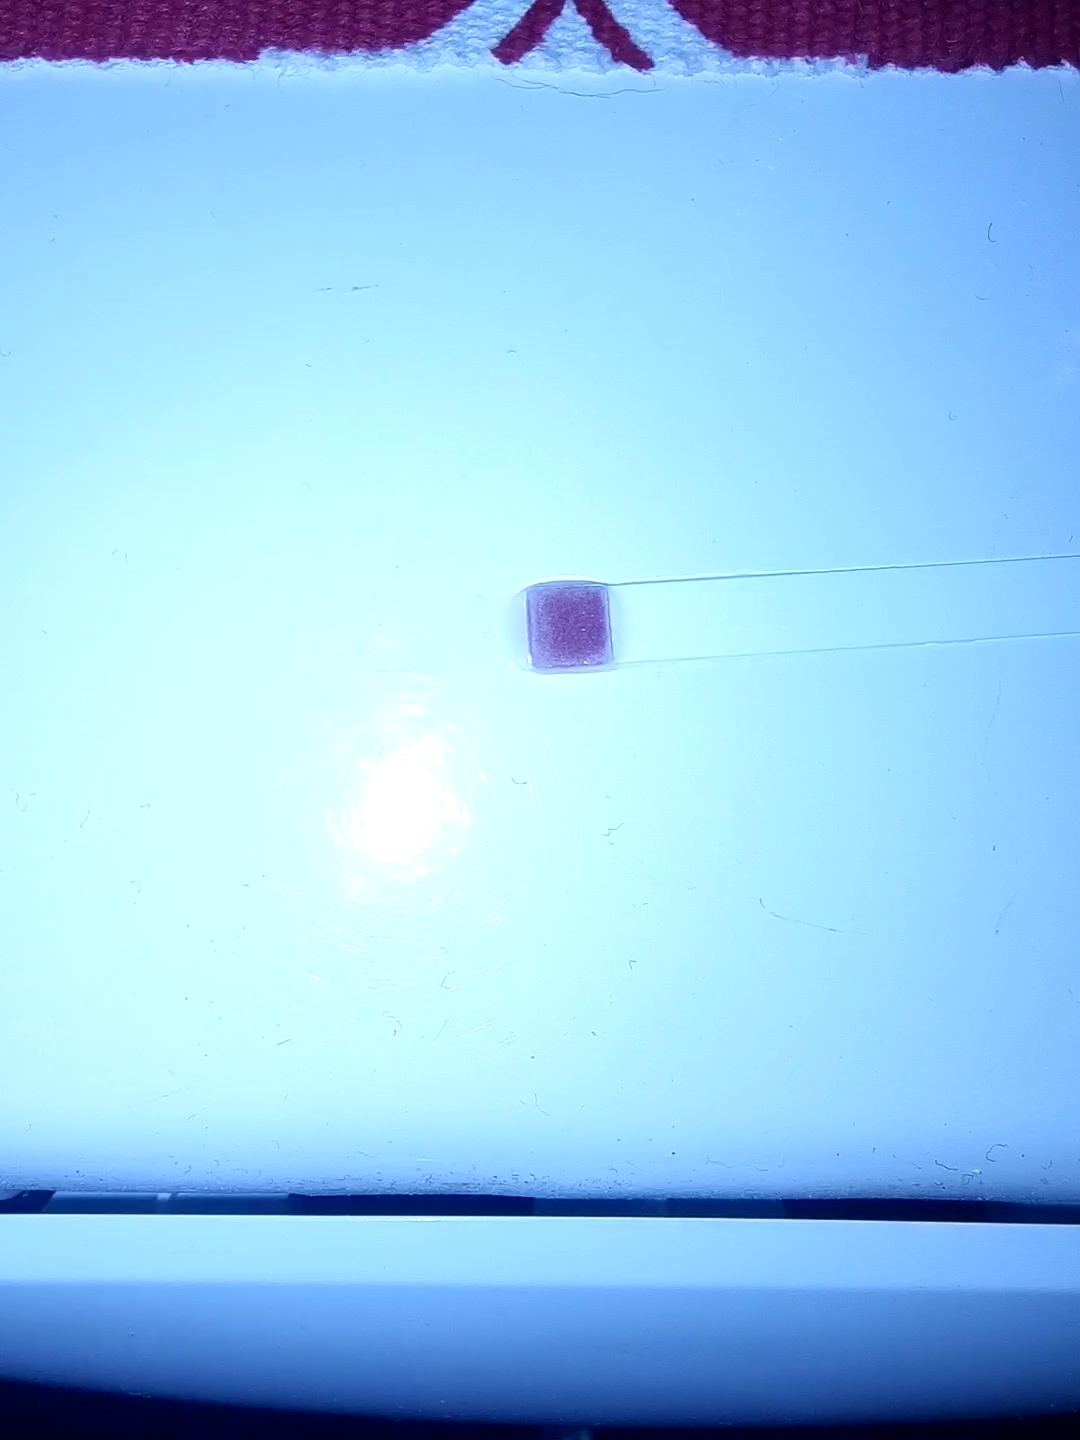keto-tip: (516, 581, 623, 676)
